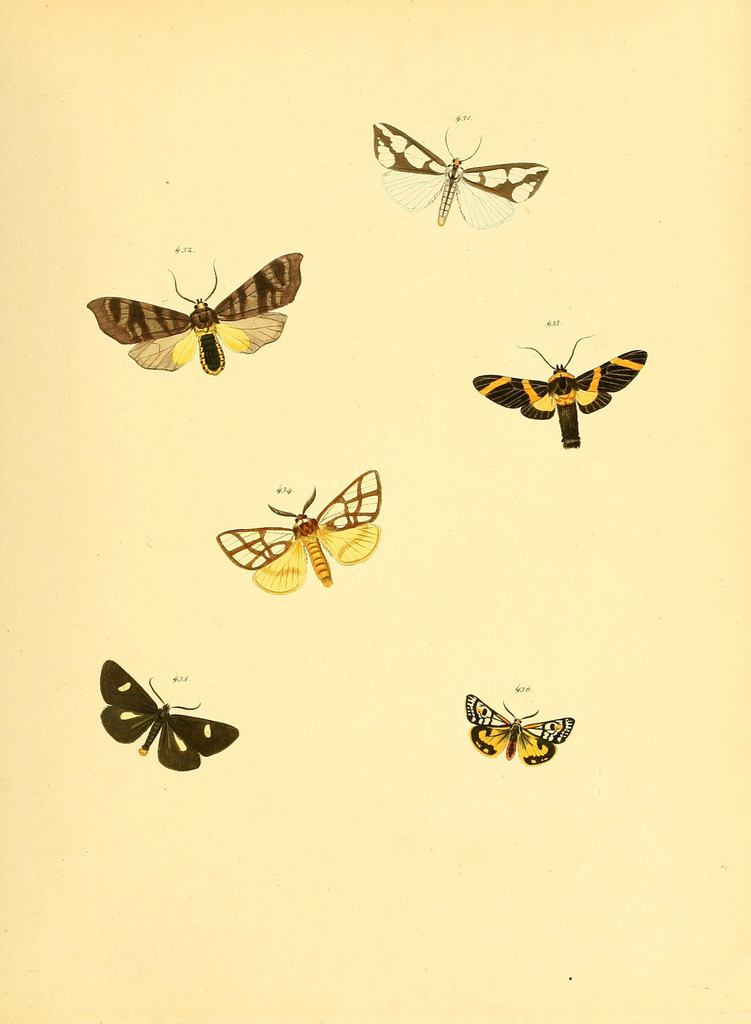Butterfly: (58, 223, 365, 410), (349, 84, 579, 258), (70, 642, 267, 817), (204, 458, 409, 618), (461, 334, 665, 452), (460, 688, 579, 769)
